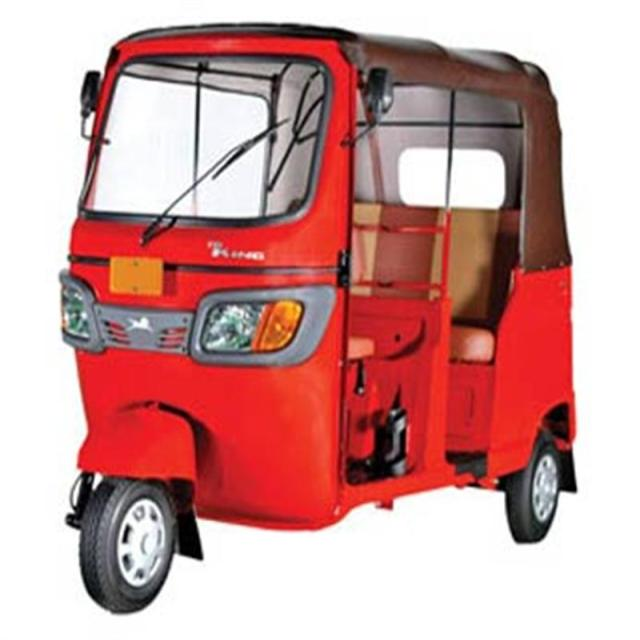autorickshaw: (60, 24, 575, 612)
